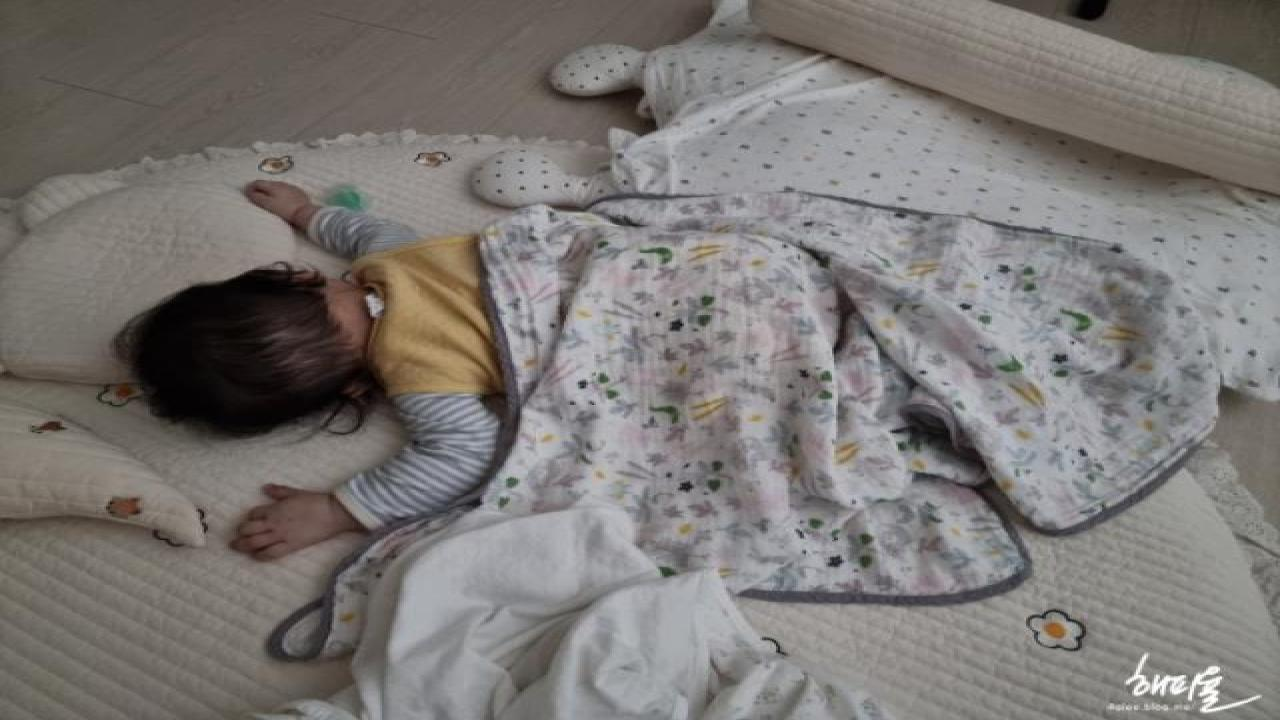hand: (230, 485, 340, 561), (244, 177, 308, 217)
